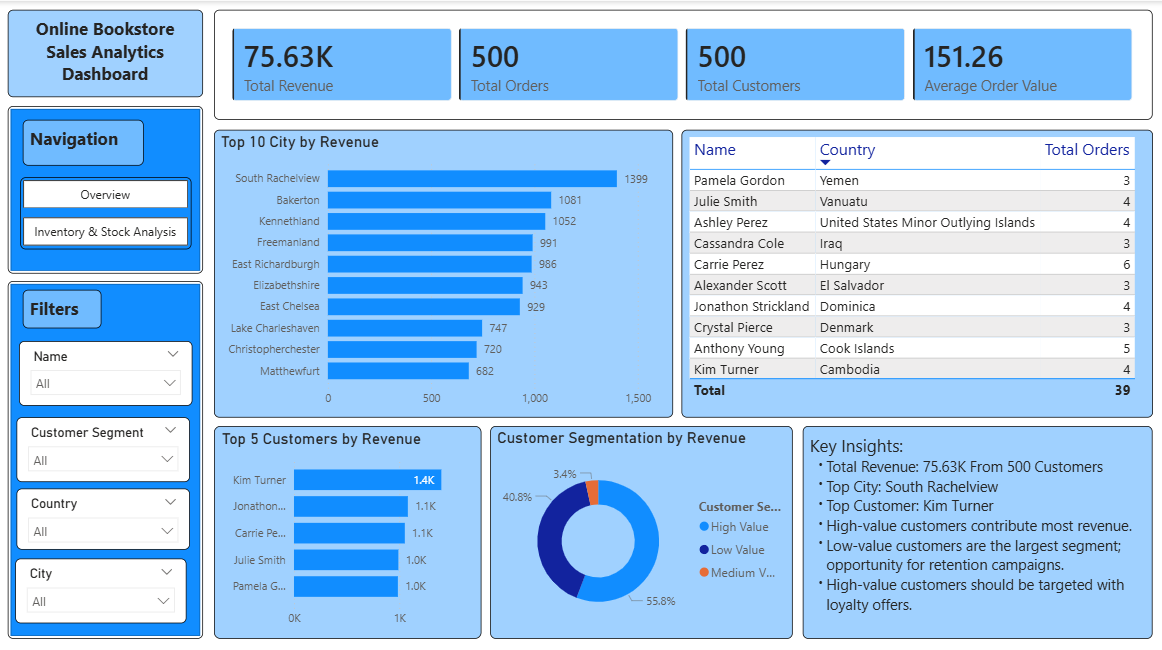

This screenshot's page, from the dashboard's own definition file:
{"tool":"powerbi","page":{"name":"Customer Analysis","canvas":[1280,720],"ordinal":1},"visuals":[{"type":"shape","box":[9.6,115.3,214.1,183.9],"z":0},{"type":"textbox","box":[9.6,9.6,214.1,96.1],"z":1000},{"type":"barChart","title":"Top 5 Customers by Revenue","fields":{"Category":["Customers.Name"],"Y":["Sum(Orders.Total_Amount)"]},"box":[236,466.6,293.7,233.3],"z":2000},{"type":"shape","box":[9.6,307.4,214.1,392.5],"z":3000},{"type":"slicer","fields":{"Values":["Customers.Name"]},"box":[22,373.2,190.7,71.4],"z":4000},{"type":"slicer","fields":{"Values":["Customers.Country"]},"box":[19.2,535.2,190.7,67.2],"z":5000},{"type":"slicer","fields":{"Values":["Customers.City"]},"box":[17.8,612,188,71.4],"z":6000},{"type":"tableEx","fields":{"Values":["Customers.Name","Customers.Country","Orders.Total Orders"]},"box":[749.2,141.3,517.3,315.6],"z":7000},{"type":"pageNavigator","box":[23.3,193.5,188,79.6],"z":8000},{"type":"slicer","fields":{"Values":["Customers.Customer Segment"]},"box":[19.2,456.9,190.7,71.4],"z":9000},{"type":"barChart","title":"Top 10 City by Revenue","fields":{"Category":["Customers.City"],"Y":["Sum(Orders.Total_Amount)"]},"box":[236,141.3,503.6,315.6],"z":10000},{"type":"textbox","box":[882.3,466.6,384.2,233.3],"z":11000},{"type":"cardVisual","fields":{"Data":["Orders.Total Revenue","Orders.Total Orders","Orders.Total Customers","Customers.Average Order Value"]},"box":[236,9.6,1030.5,120.8],"z":12000},{"type":"donutChart","title":"Customer Segmentation by Revenue","fields":{"Category":["Customers.Customer Segment"],"Y":["CountNonNull(Customers.Customer Segment)"]},"box":[539.3,466.6,332.1,233.3],"z":13000},{"type":"textbox","box":[26.1,130.4,133.1,50.8],"z":14000},{"type":"textbox","box":[26.1,317,86.4,42.5],"z":15000}]}

Visuals, with their boxes in screenshot pixels (x1, y1, x2, y2), scaled from the page's 1280x720 canvas onto the 1162x650 screenshot:
shape: (left=9, top=104, right=203, bottom=270)
textbox: (left=9, top=9, right=203, bottom=95)
"Top 5 Customers by Revenue" barChart: (left=214, top=421, right=481, bottom=632)
shape: (left=9, top=278, right=203, bottom=632)
slicer - Customers.Name: (left=20, top=337, right=193, bottom=401)
slicer - Customers.Country: (left=17, top=483, right=191, bottom=544)
slicer - Customers.City: (left=16, top=552, right=187, bottom=617)
tableEx - Customers.Name x Customers.Country: (left=680, top=128, right=1150, bottom=412)
pageNavigator: (left=21, top=175, right=192, bottom=247)
slicer - Customers.Customer Segment: (left=17, top=412, right=191, bottom=477)
"Top 10 City by Revenue" barChart: (left=214, top=128, right=671, bottom=412)
textbox: (left=801, top=421, right=1150, bottom=632)
cardVisual - Orders.Total Revenue x Orders.Total Orders: (left=214, top=9, right=1150, bottom=118)
"Customer Segmentation by Revenue" donutChart: (left=490, top=421, right=791, bottom=632)
textbox: (left=24, top=118, right=145, bottom=164)
textbox: (left=24, top=286, right=102, bottom=325)
